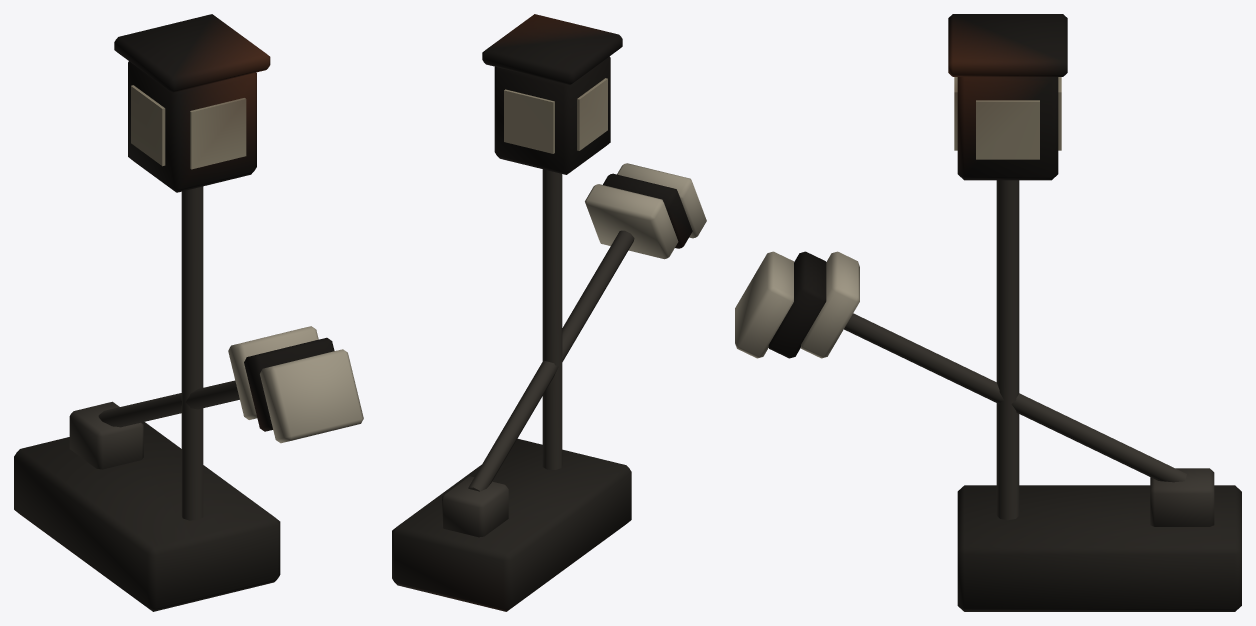
File: palanca_aguja.glb
3 views of the same model, side by side, from view 1: azimuth 30°, elevation 25°; view 2: azimuth 150°, elevation 25°; view 3: azimuth 270°, elevation 25° (orthographic). The views are drawn at different scales.
Parts seen in each view (by area): view 1: palanca_aguja.001; view 2: palanca_aguja.001; view 3: palanca_aguja.001.
Boxes of the visible parts, left/top/right/bottom form: palanca_aguja.001: left=14, top=14, right=363, bottom=611; palanca_aguja.001: left=392, top=14, right=706, bottom=611; palanca_aguja.001: left=735, top=14, right=1241, bottom=611.
Bounding box in the file's own units: 0.34 × 1.31 × 1.1.
